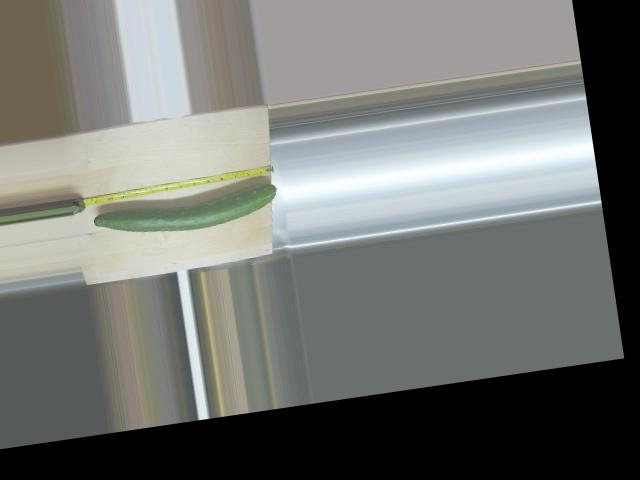cucumber: (91, 180, 280, 243)
